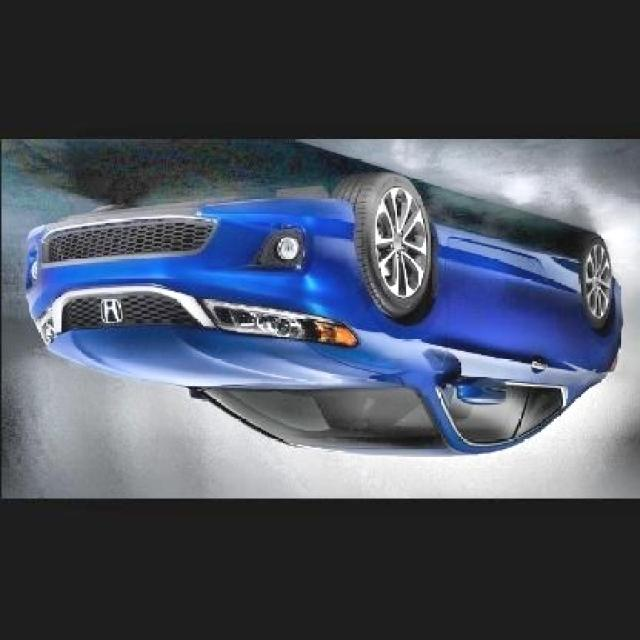blue: (16, 188, 610, 461)
